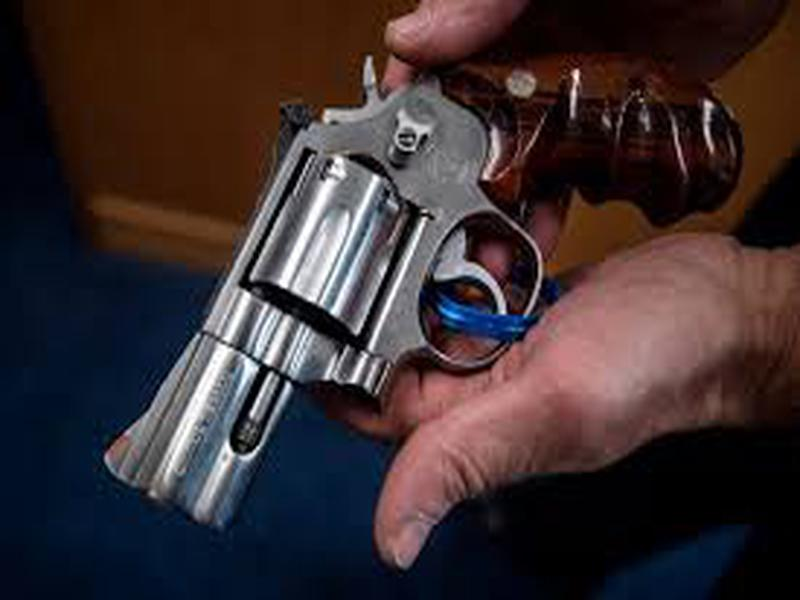gun: (93, 52, 750, 548)
